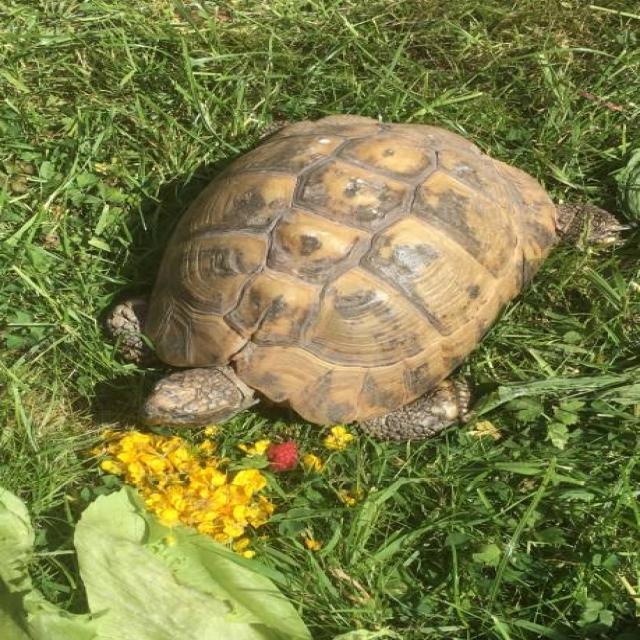tortoise: (103, 115, 615, 443)
